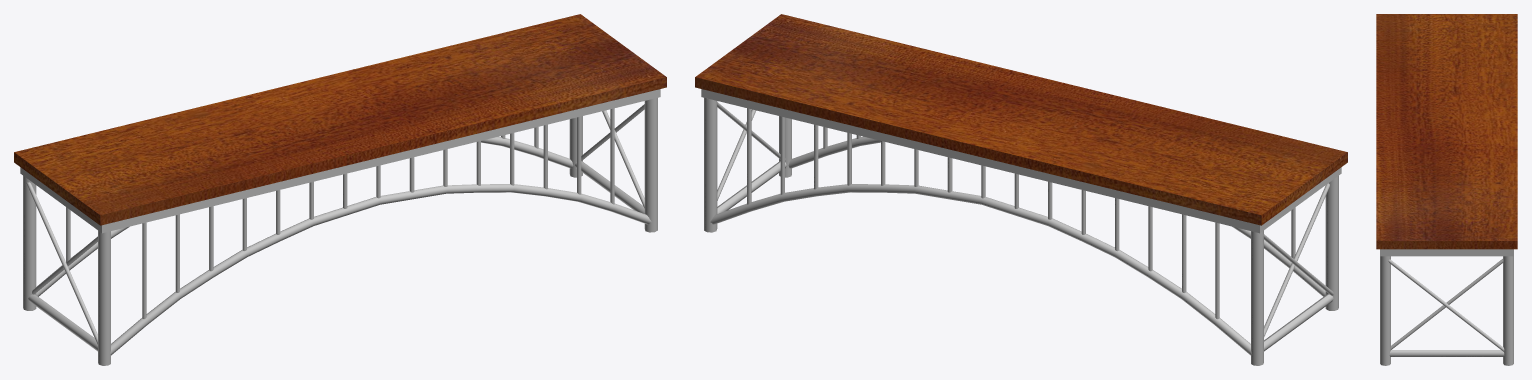
3 renders of one model, left to right at view 1: azimuth 30°, elevation 25°; view 2: azimuth 150°, elevation 25°; view 3: azimuth 270°, elevation 25°, orthographic. The views are drawn at different scales.
Visible parts, largest first — view 1: mesh1_mesh1-geometry, mesh20_mesh20-geometry, mesh3_mesh3-geometry, mesh41_mesh41-geometry, mesh31_mesh31-geometry, mesh21_mesh21-geometry, mesh4_mesh4-geometry, mesh34_mesh34-geometry, mesh44_mesh44-geometry; view 2: mesh1_mesh1-geometry, mesh20_mesh20-geometry, mesh31_mesh31-geometry, mesh44_mesh44-geometry, mesh3_mesh3-geometry, mesh4_mesh4-geometry, mesh22_mesh22-geometry, mesh34_mesh34-geometry; view 3: mesh1_mesh1-geometry, mesh44_mesh44-geometry, mesh41_mesh41-geometry, mesh20_mesh20-geometry, mesh34_mesh34-geometry, mesh42_mesh42-geometry, mesh43_mesh43-geometry.
Boxes of the visible parts, x1,y1,x2,y2 form: mesh1_mesh1-geometry: (14,14,666,225); mesh20_mesh20-geometry: (20,89,660,365); mesh3_mesh3-geometry: (110,184,651,355); mesh41_mesh41-geometry: (644,98,657,232); mesh31_mesh31-geometry: (36,136,573,296); mesh21_mesh21-geometry: (26,182,97,344); mesh4_mesh4-geometry: (28,294,97,351); mesh34_mesh34-geometry: (575,161,644,213); mesh44_mesh44-geometry: (569,116,582,177); mesh1_mesh1-geometry: (695,14,1347,225); mesh20_mesh20-geometry: (701,89,1341,365); mesh31_mesh31-geometry: (710,184,1252,355); mesh44_mesh44-geometry: (704,98,717,232); mesh3_mesh3-geometry: (788,136,1325,296); mesh4_mesh4-geometry: (1264,294,1333,351); mesh22_mesh22-geometry: (1264,183,1329,336); mesh34_mesh34-geometry: (717,161,786,213); mesh1_mesh1-geometry: (1376,14,1517,249); mesh44_mesh44-geometry: (1503,256,1513,365); mesh41_mesh41-geometry: (1380,256,1390,365); mesh20_mesh20-geometry: (1380,249,1513,256); mesh34_mesh34-geometry: (1389,350,1504,356); mesh42_mesh42-geometry: (1388,259,1504,351); mesh43_mesh43-geometry: (1390,259,1503,349).
Size of the model in its own units: 0.9376 by 0.2442 by 0.2474.
